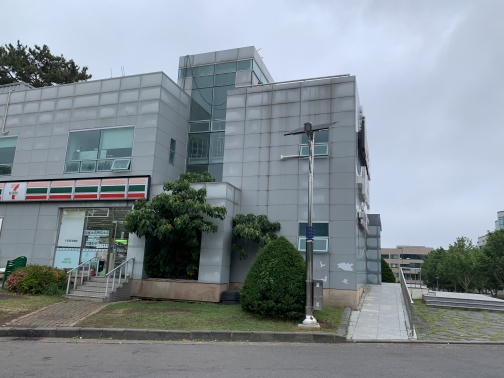Global House: (4, 50, 379, 314)
Joint Experimental Labs: (380, 244, 434, 283)
Second Library: (493, 208, 504, 226)
